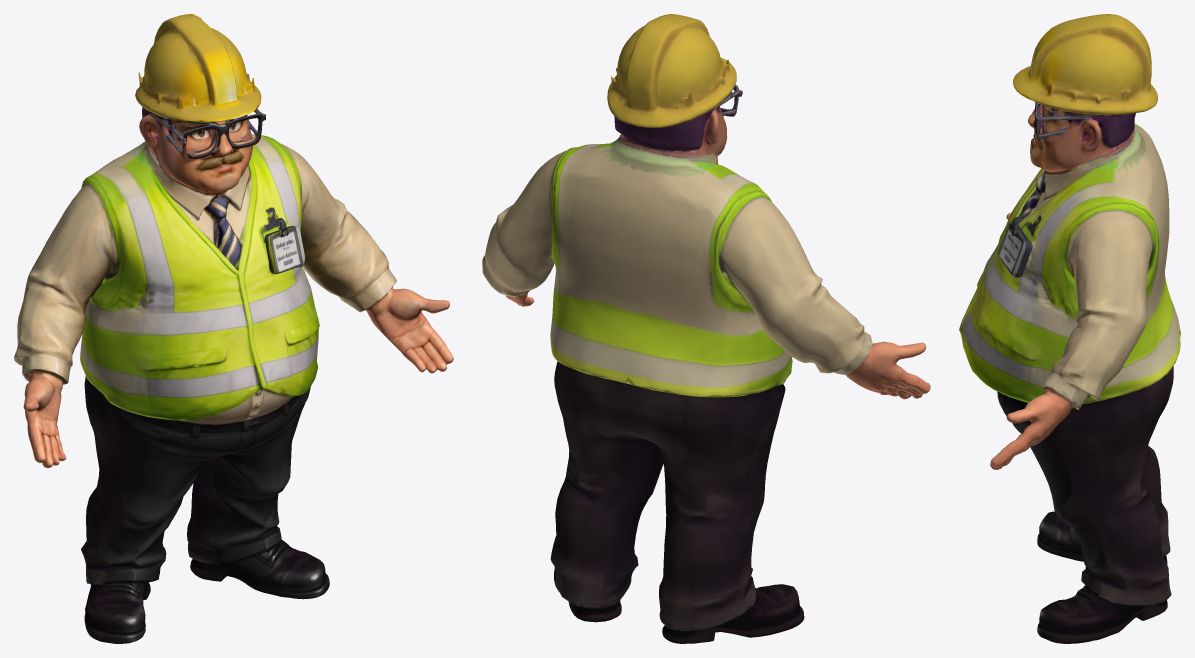
The model's file is diner-patron-inspector_body.glb.
The picture shows the model from 3 angles, left to right: view 1: azimuth 30°, elevation 25°; view 2: azimuth 150°, elevation 25°; view 3: azimuth 270°, elevation 25°; orthographic projection. The views are drawn at different scales.
Parts seen in each view (by area): view 1: diner-patron-inspector; view 2: diner-patron-inspector; view 3: diner-patron-inspector.
Part boxes in pixels (<box>): diner-patron-inspector: <box>14,14,453,643</box>; diner-patron-inspector: <box>482,14,930,643</box>; diner-patron-inspector: <box>959,14,1180,643</box>.
Bounding box in the file's own units: 1.4 × 1.82 × 0.6409.
2 materials, 2 textured.
